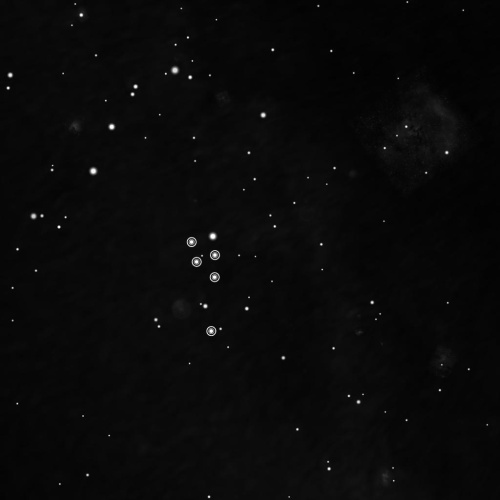delphinus: (183, 233, 226, 341)
